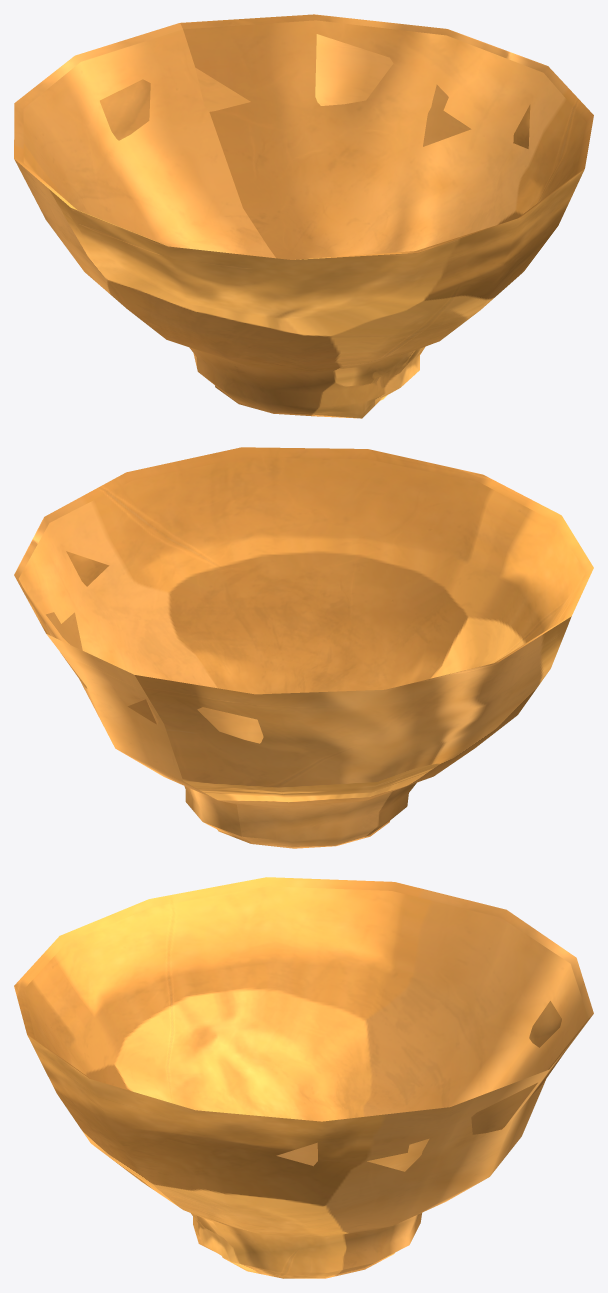
File: SM_Stylized_Bowl_A.fbx
The picture shows the model from 3 angles, top to bottom: view 1: azimuth 30°, elevation 25°; view 2: azimuth 150°, elevation 25°; view 3: azimuth 270°, elevation 25°; orthographic projection.
Parts seen in each view (by area): view 1: SM_Stylized_Bowl_A_LOD0; view 2: SM_Stylized_Bowl_A_LOD0; view 3: SM_Stylized_Bowl_A_LOD0.
Boxes of the visible parts, bbox=[...] form: SM_Stylized_Bowl_A_LOD0: bbox=[14, 14, 593, 418]; SM_Stylized_Bowl_A_LOD0: bbox=[14, 447, 593, 848]; SM_Stylized_Bowl_A_LOD0: bbox=[14, 877, 593, 1278].
Bounding box in the file's own units: 17.87 × 18.09 × 8.43.
